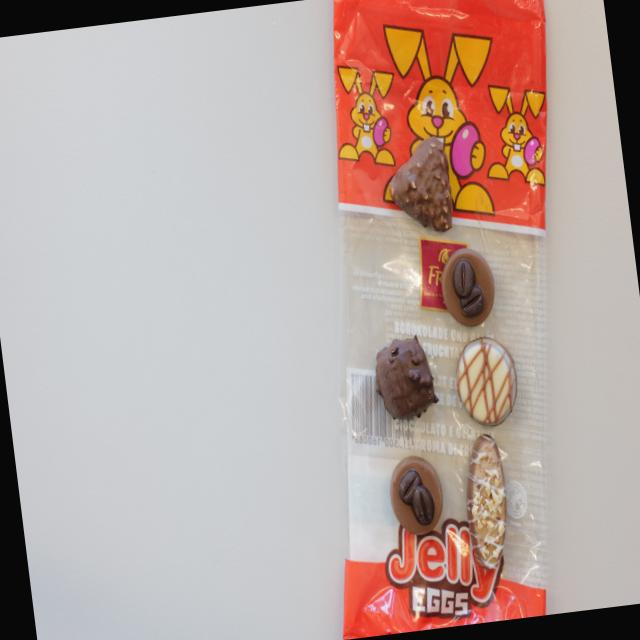Amandina: (457, 433, 514, 571)
Arabia: (435, 244, 498, 330), (386, 452, 446, 538)
Creme_brulee: (449, 332, 521, 428)
Tentation_noir: (370, 332, 439, 423)
Triangolo: (382, 136, 455, 238)
